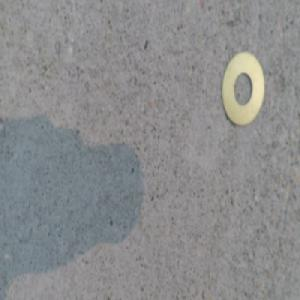Washer: (219, 53, 264, 129)
